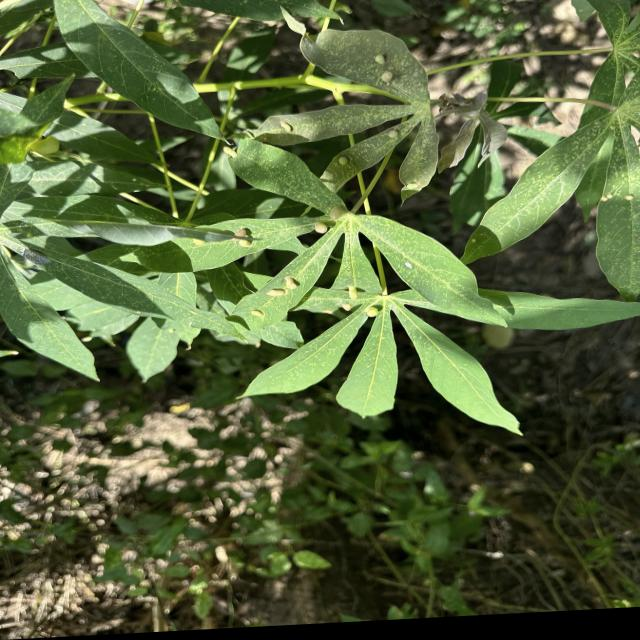Maleza: (120, 417, 458, 612)
Mosca: (345, 279, 386, 322), (259, 269, 301, 300), (370, 43, 396, 82), (597, 185, 640, 208), (403, 244, 427, 279), (230, 216, 253, 249), (214, 138, 240, 162), (329, 145, 357, 167), (306, 215, 330, 239), (378, 121, 407, 140), (276, 111, 296, 138), (242, 301, 268, 319), (468, 226, 484, 249)
